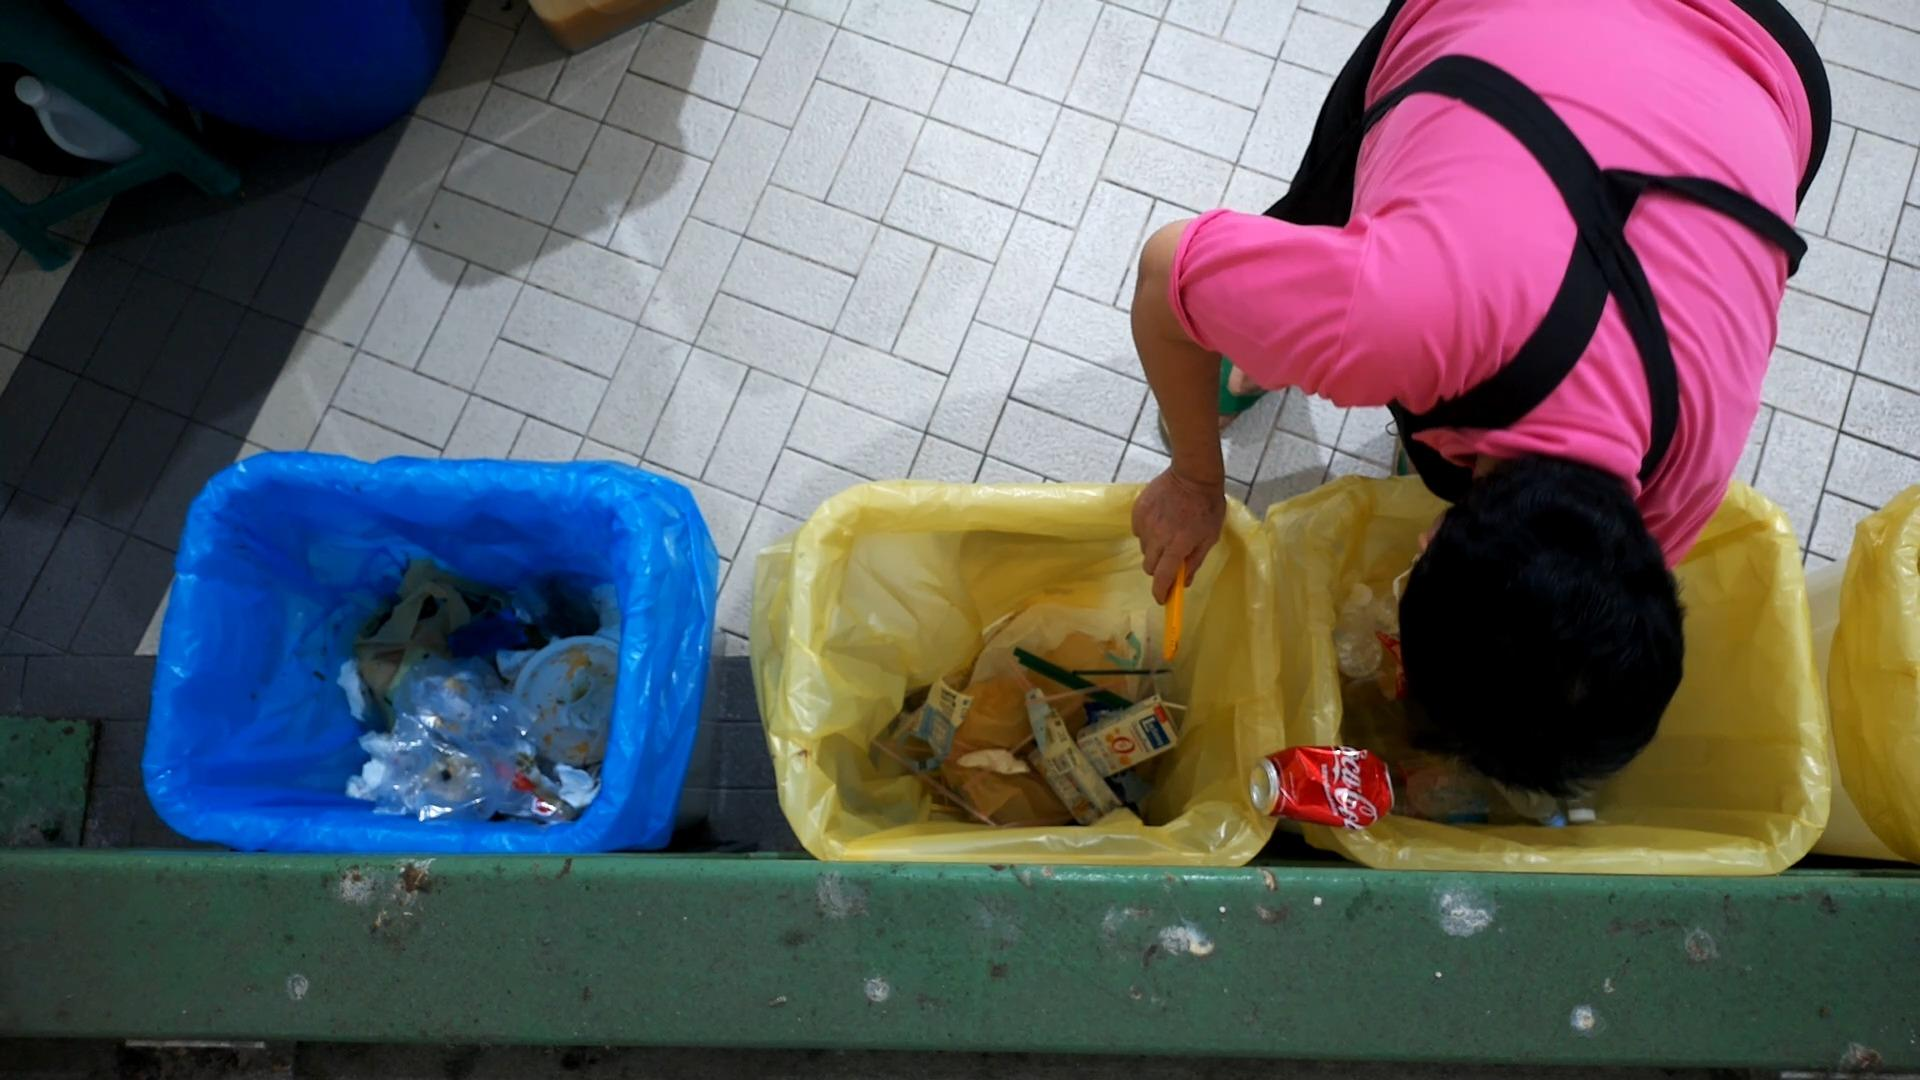can: (1247, 745, 1395, 828)
dirty food container: (513, 634, 621, 765)
milk carton: (1075, 698, 1178, 762)
straw: (864, 738, 993, 831)
tissue paper: (959, 749, 1027, 778)
